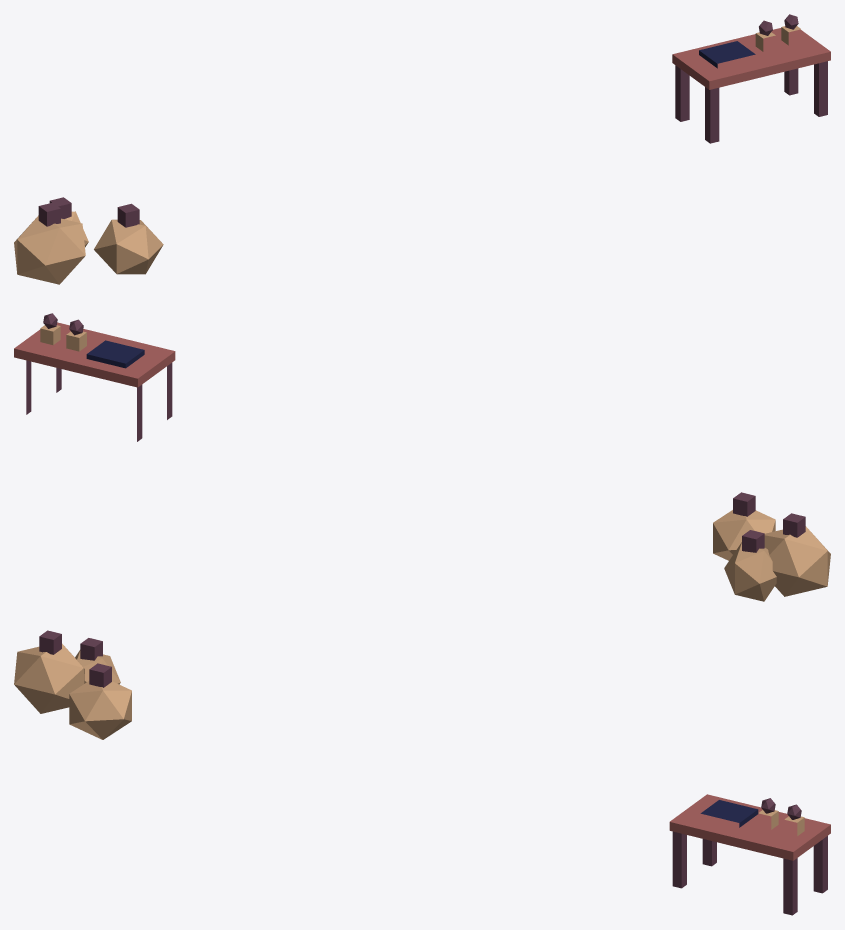
Rendered from props.glb.
3 renders of one model, top to bottom at view 1: azimuth 30°, elevation 25°; view 2: azimuth 150°, elevation 25°; view 3: azimuth 330°, elevation 25°, orthographic.
Visible parts, largest first — view 1: Top, Sack0, Sack1, InkPad, DLeg2, DLeg0, DLeg3; view 2: Top, Sack0, Sack2, Sack1, InkPad; view 3: Top, Sack0, Sack1, InkPad, DLeg3, DLeg2, DLeg1.
Boxes of the visible parts, x1,y1,x2,y2 form: Top: (672, 28, 830, 89); Sack0: (14, 215, 85, 284); Sack1: (94, 219, 163, 274); InkPad: (699, 41, 755, 68); DLeg2: (705, 87, 719, 143); DLeg0: (675, 65, 689, 121); DLeg3: (814, 61, 827, 116); Top: (14, 322, 175, 387); Sack0: (764, 526, 830, 596); Sack2: (724, 542, 776, 601); Sack1: (713, 510, 775, 560); InkPad: (86, 340, 144, 368); Top: (669, 794, 830, 860); Sack0: (14, 643, 84, 713); Sack1: (69, 681, 131, 739); InkPad: (700, 800, 758, 827); DLeg3: (783, 858, 797, 915); DLeg2: (672, 831, 686, 888); DLeg1: (813, 836, 827, 893).
Size of the model in its own units: 12.31 by 1.33 by 1.61.
